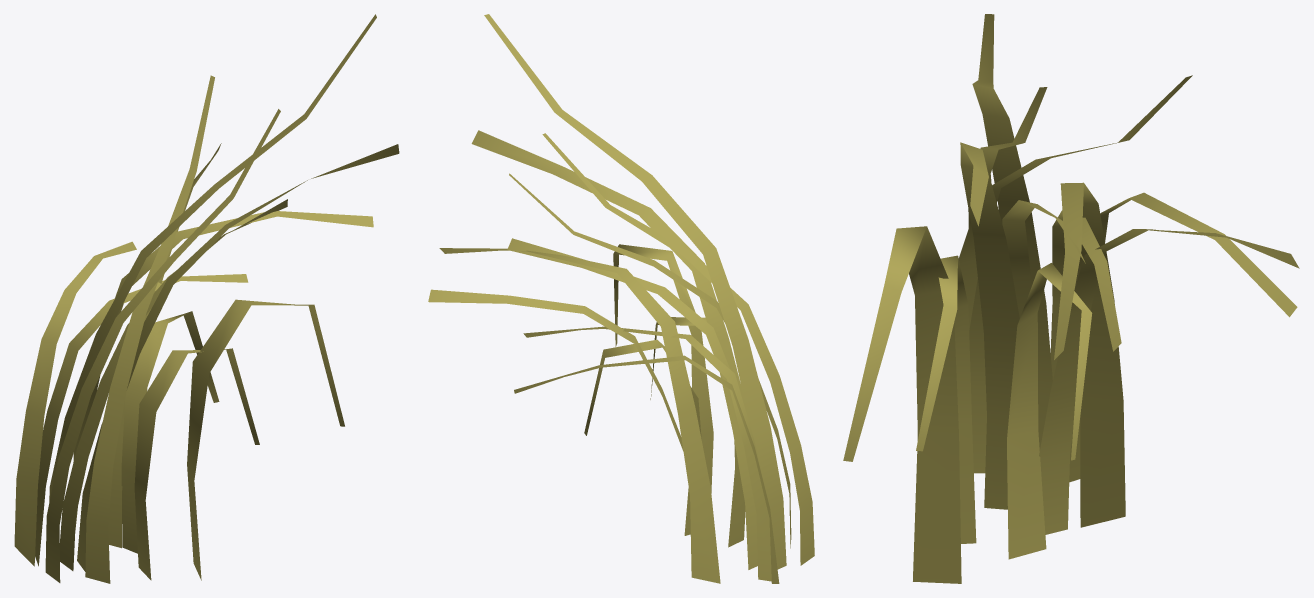
The model's file is grass.glb.
3 views of the same model, side by side, from view 1: azimuth 30°, elevation 25°; view 2: azimuth 150°, elevation 25°; view 3: azimuth 270°, elevation 25° (orthographic). The views are drawn at different scales.
Visible parts, largest first — view 1: Plane.002; view 2: Plane.002; view 3: Plane.002.
Boxes of the visible parts, x1,y1,x2,y2 form: Plane.002: (14, 14, 399, 583); Plane.002: (428, 14, 814, 583); Plane.002: (843, 14, 1299, 583).
Bounding box in the file's own units: 0.5006 × 0.6807 × 0.3974.
